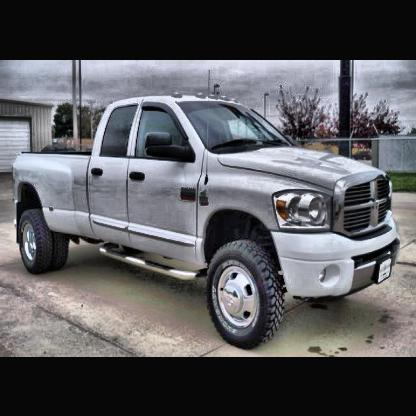Dodge Ram Pickup 3500 Quad Cab 2009: (15, 96, 400, 349)
